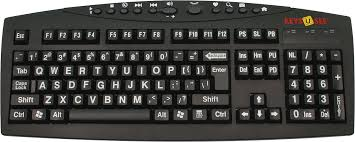keyboard: (3, 9, 355, 136)
